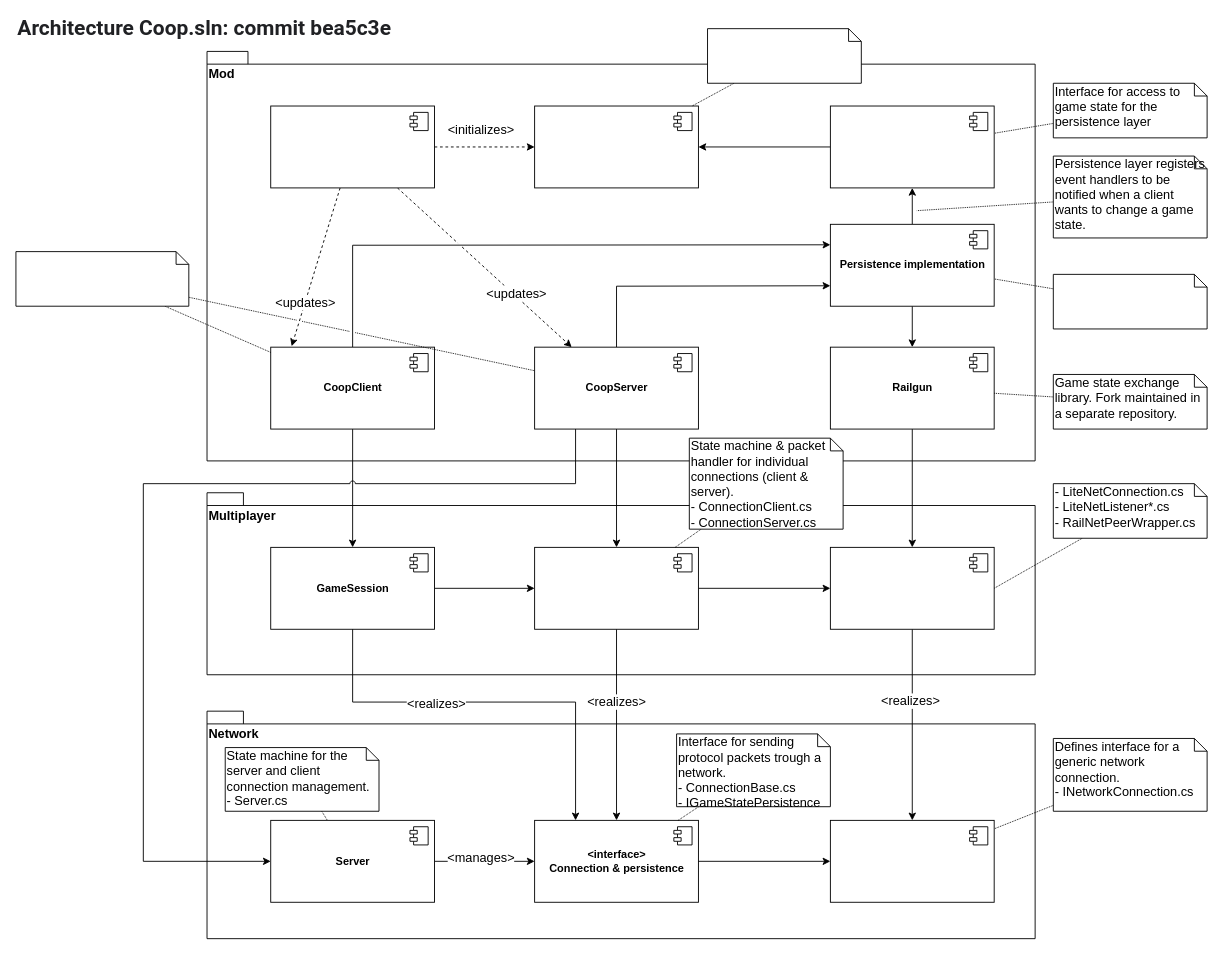
Some shapes in this 1223 by 955 pixel diagram are drawn without their labels. The centre of each missing label's shape, as x and y in pixels:
"<interface> Network" goes at [911,860].
"Connections" goes at [616,587].
"GameEnvironment" goes at [911,146].
"Global instances tying it all together." goes at [102,278].
"Harmony patches to control game state" goes at [784,55].
"MBModule" goes at [352,146].
"Network implementation" goes at [911,587].
"Patches" goes at [616,146].
"Railgun entity, state and event implementations for game objects." goes at [1129,301].
